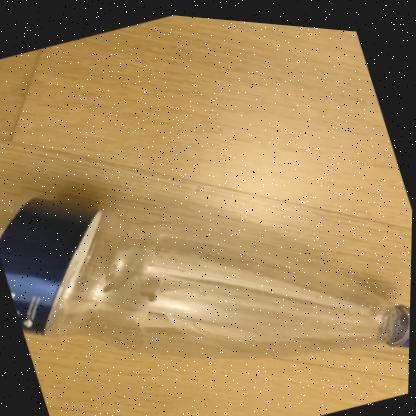Plastic: (0, 198, 411, 354)
